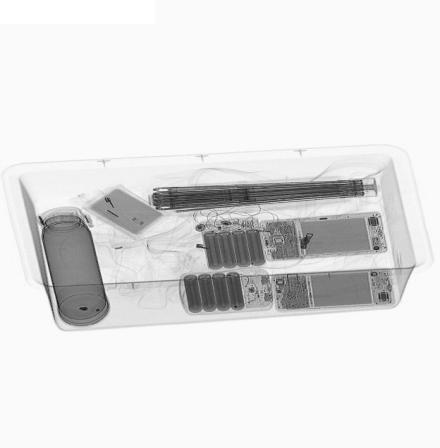Powerbank: (179, 266, 273, 316), (196, 217, 270, 270)
